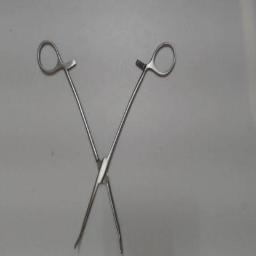Lahey Forceps: (32, 38, 180, 256)
